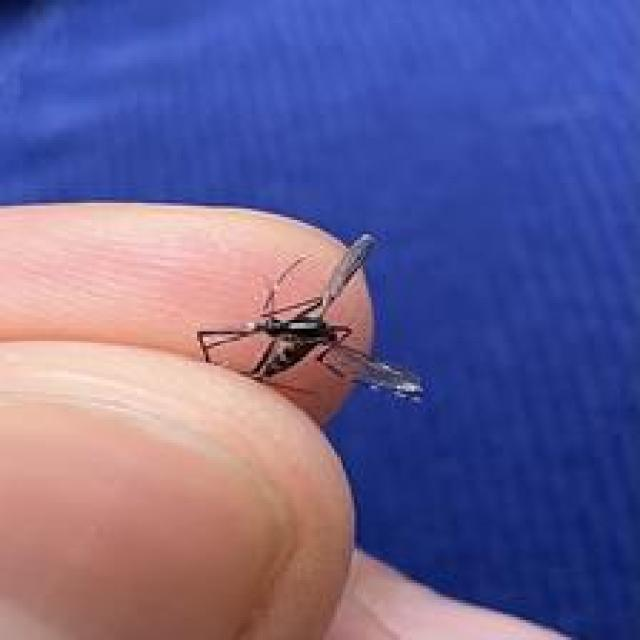Aedes albopictus: (194, 232, 426, 408)
